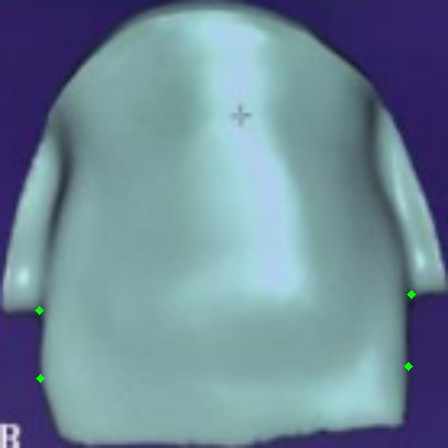coin_1: (39, 310, 59, 330)
coin_2: (40, 378, 60, 398)
coin_3: (411, 294, 431, 314)
coin_4: (408, 366, 428, 386)
